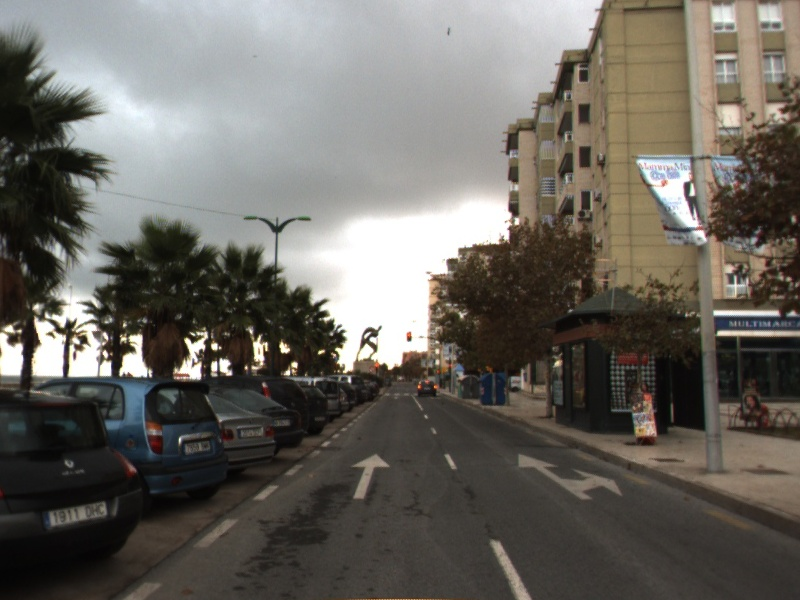STRAIGHT: (350, 452, 392, 501)
STRAIGHT_RIGHT: (517, 452, 624, 501)
